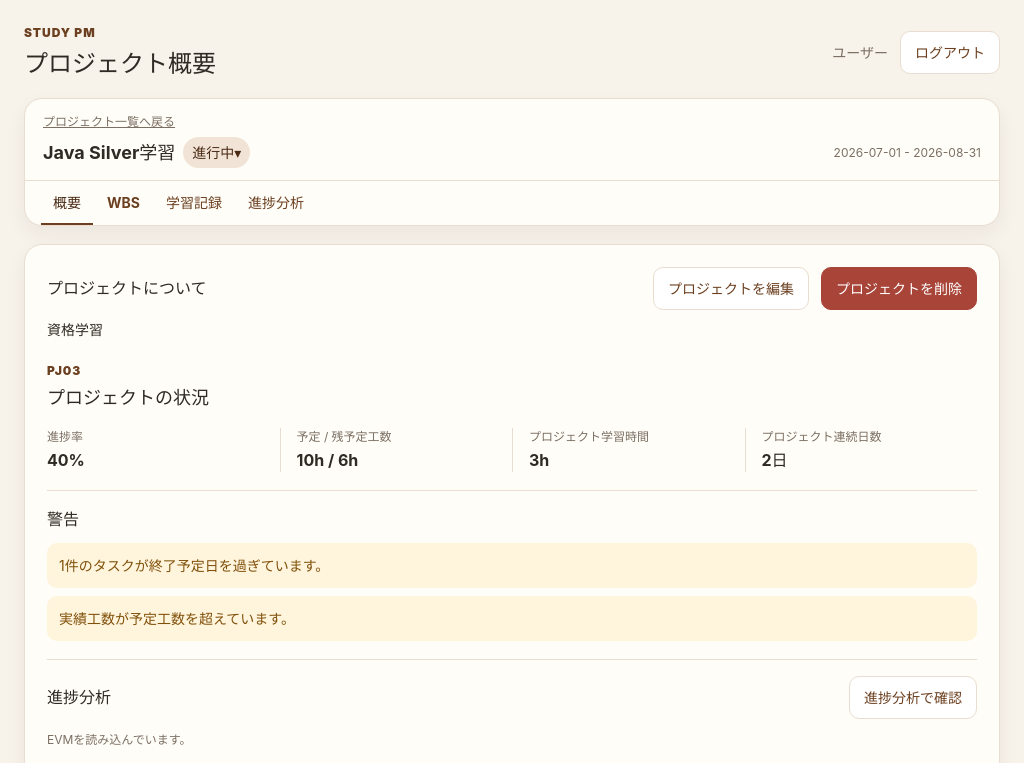
Test: ProjectOverviewPage › ヘッダーの状態からプロジェクト状態を変更する
Expected: the heading "Java Silver学習" is shown, [43,141,175,165]
Click the button with aria-label "プロジェクトの状態を変更。現在: 進行中" at point(217, 153), box [183,137,250,168]
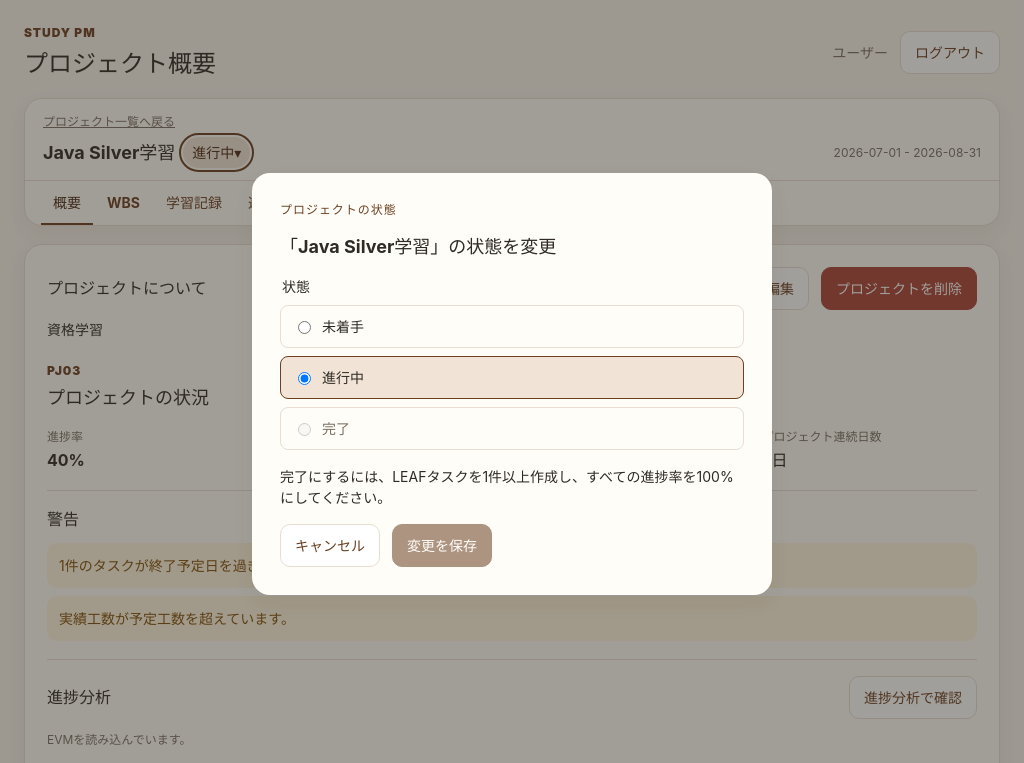
Expected: the radio button labelled "完了" is disabled, [298,423,311,436]
Click the radio button labelled "未着手" at point(304, 328), box [298,321,311,334]
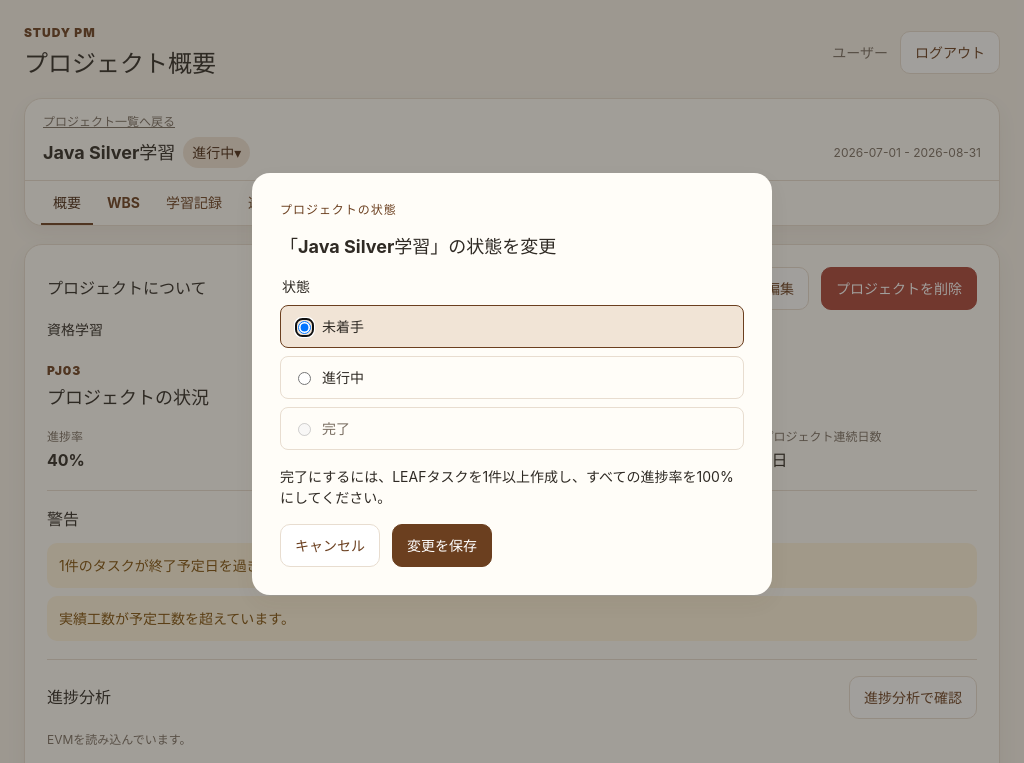
Click the button "変更を保存" at point(442, 545), box [392,524,492,567]
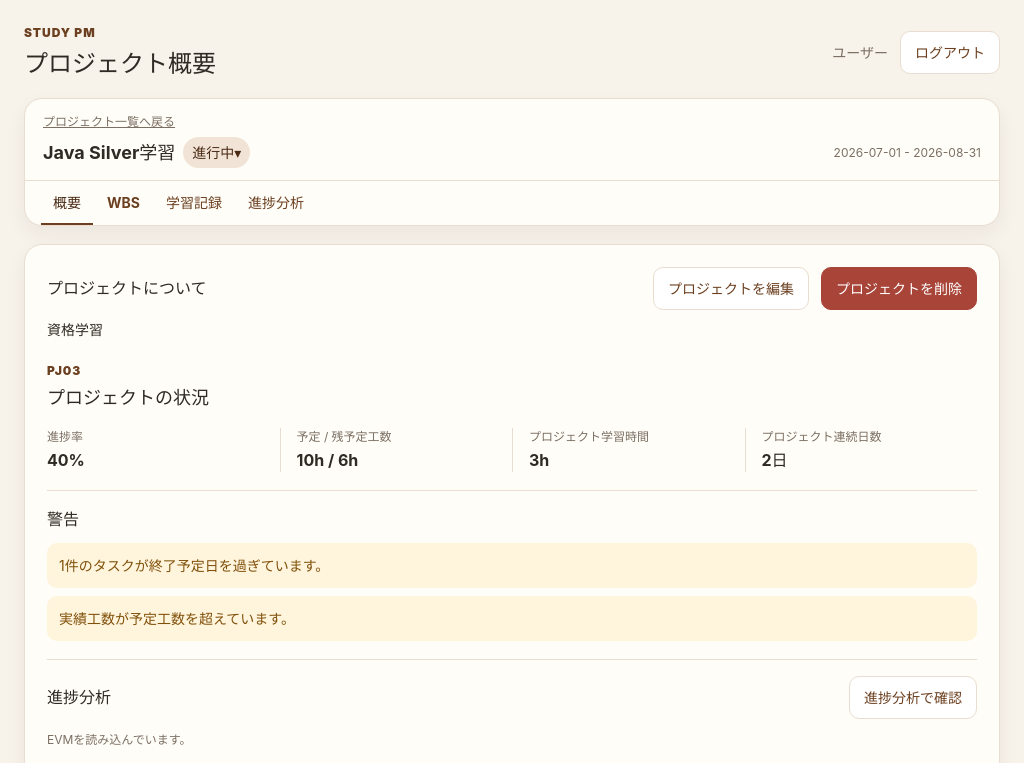
Expected: the heading "状態を変更" is gone
